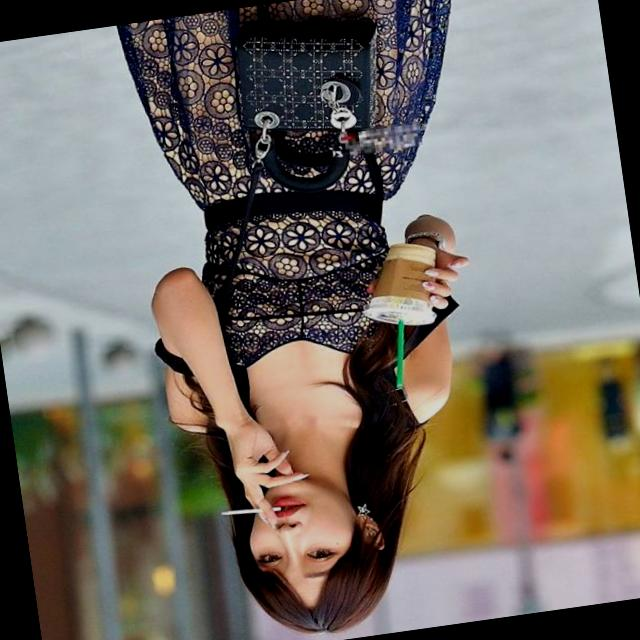smoke: (208, 494, 258, 524)
